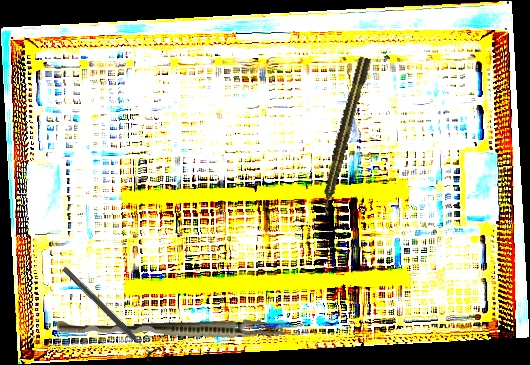Fixation Ring: (57, 261, 163, 364)
Handpiece: (316, 55, 373, 216)
Tissue Forceps: (56, 317, 286, 341)
